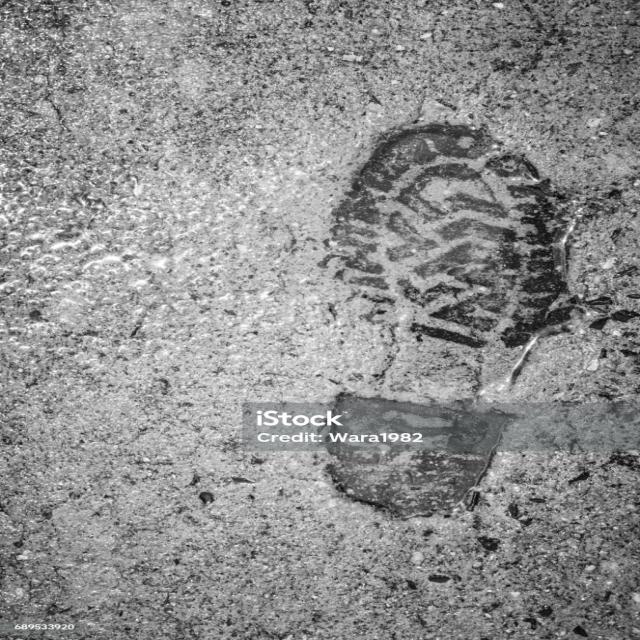human_footprint: (268, 64, 626, 588)
